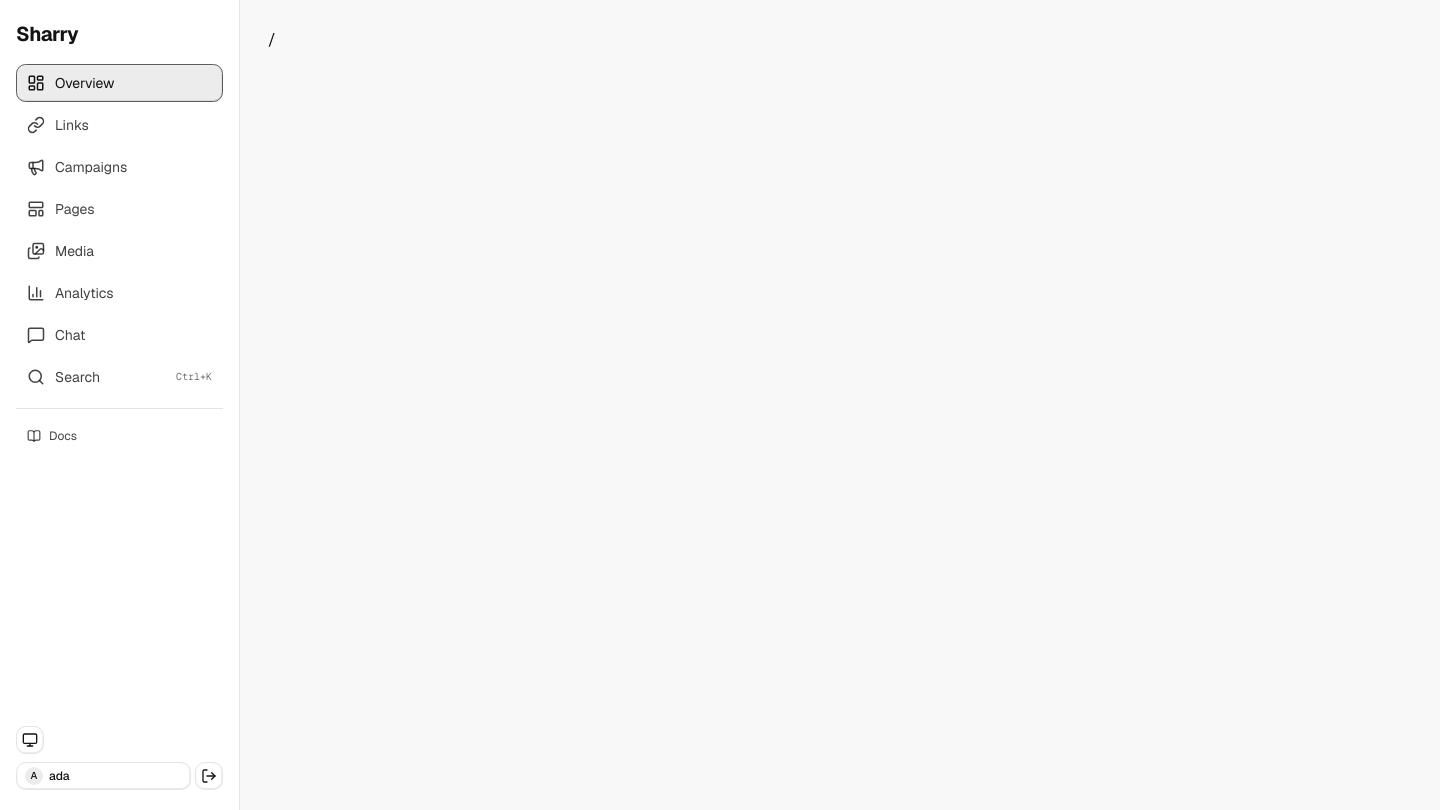
Test: command menu › places search under chat and hides audit from a standard user
Click the button "Search Ctrl+K" at (120, 377), box [16,358,223,396]
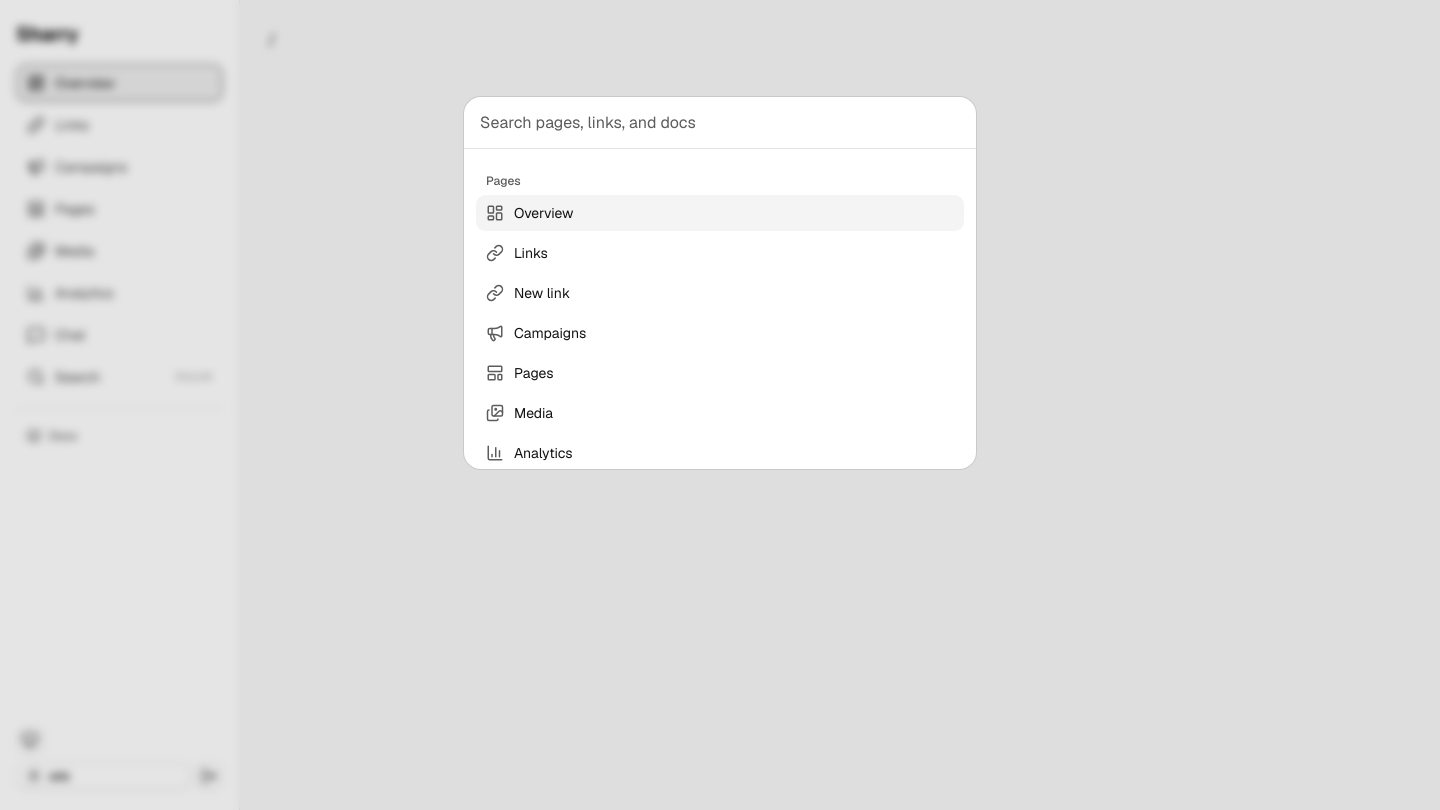
Check: the 2nd icon is shown, box [486,244,504,262]
